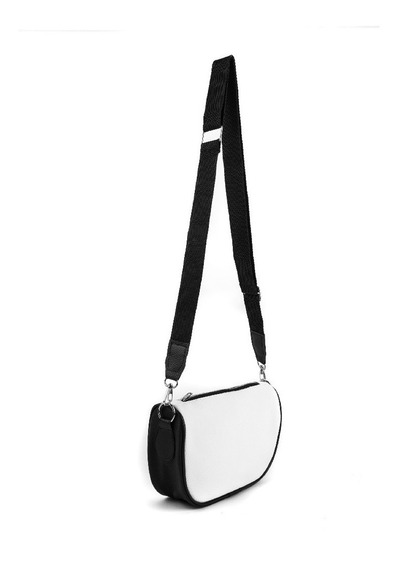cartera: (146, 54, 282, 508)
